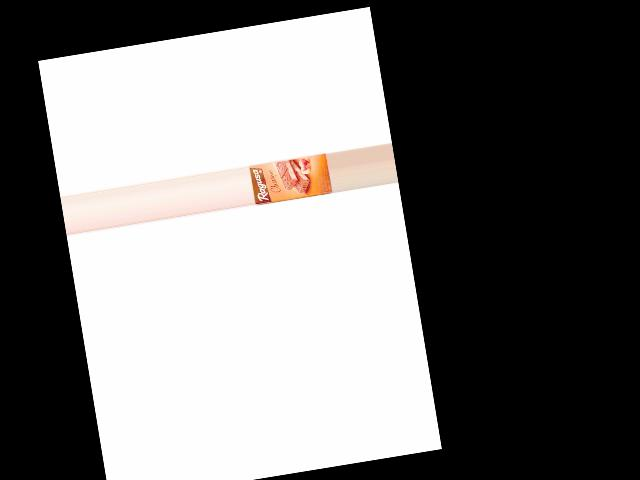chocolate: (249, 148, 333, 207)
